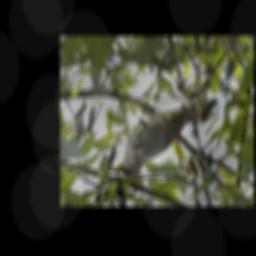Cuckoo: (108, 51, 227, 178)
